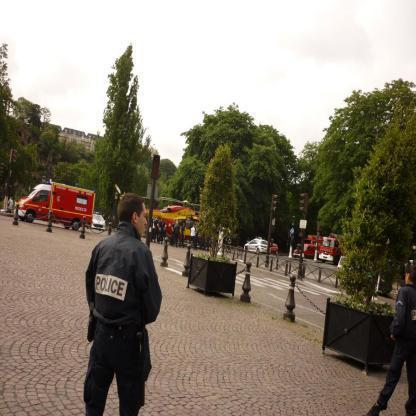Ambulance - v1 Ambulance last generate: (12, 181, 96, 230)
